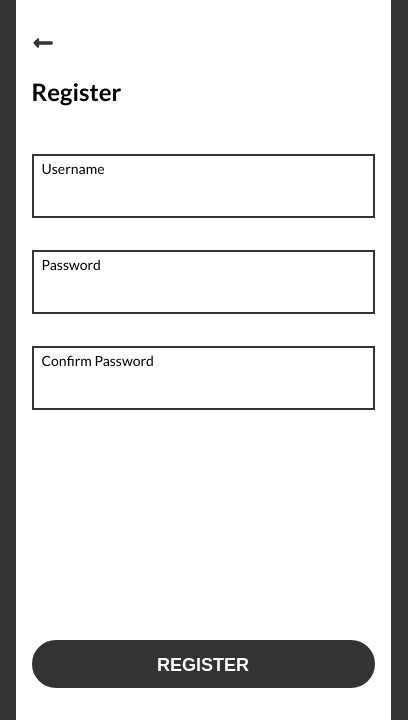
fields validation › username field empty only
Type "1234" into the password field labelled "Password". click: (203, 288)
box: [42,272,364,304]
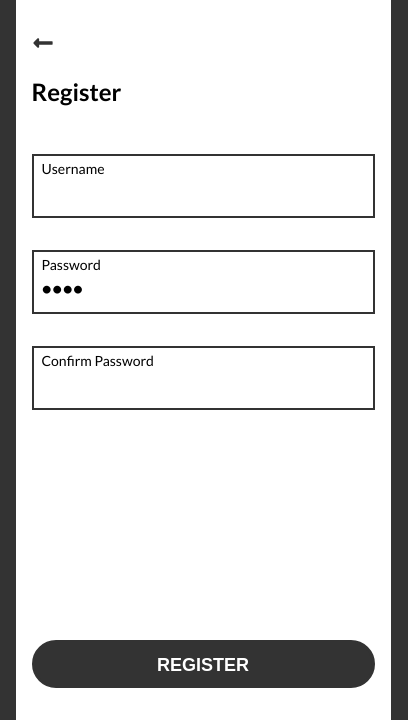
Type "1234" into the password field labelled "Confirm Password". click: (203, 384)
box: [42,368,364,400]
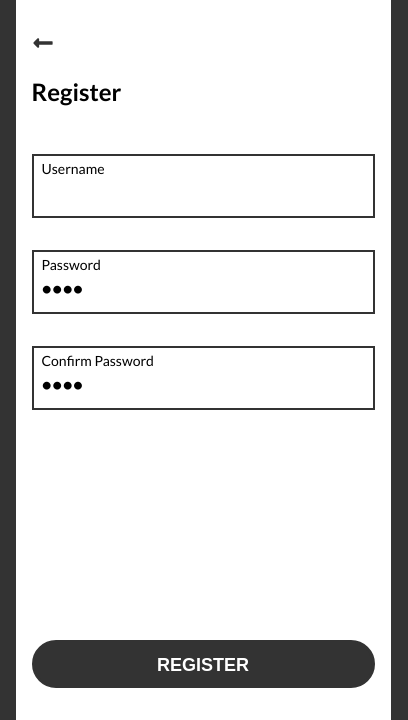
Click the button "REGISTER". click: (203, 664)
box: [32,640,374,688]
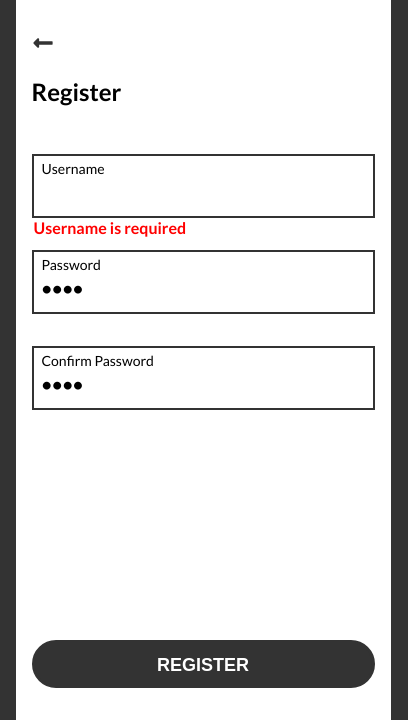
expect the messages read "Username is required", in this order: met, box [34,218,186,237]
